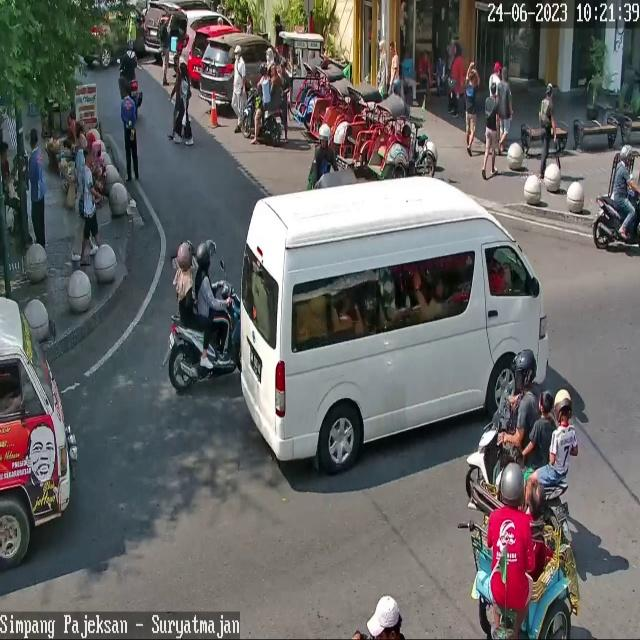bus: (466, 388, 574, 546), (168, 279, 243, 392), (240, 86, 282, 146), (593, 196, 640, 249), (118, 60, 142, 112)
car: (241, 178, 549, 474)
motorcycle: (0, 296, 76, 570), (201, 34, 281, 104), (81, 0, 149, 66), (164, 9, 233, 67), (144, 0, 212, 54), (186, 24, 242, 82)
